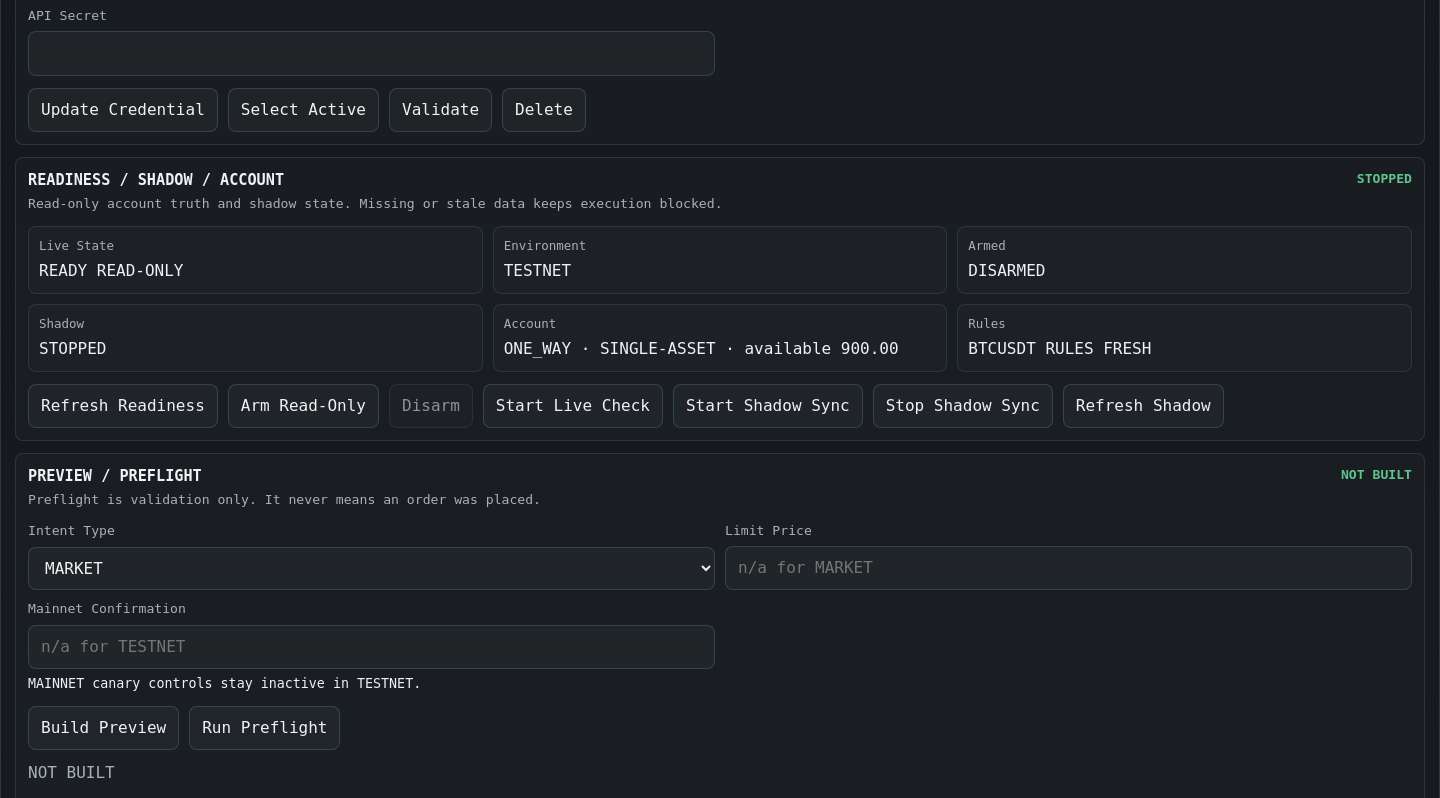
Test: live access panel › starts and stops live shadow sync with explicit stream state
The image size is (1440, 798).
(page scrolled)
Step 1. Click the button "Start Shadow Sync" → (768, 406), box [673,384,863,428]
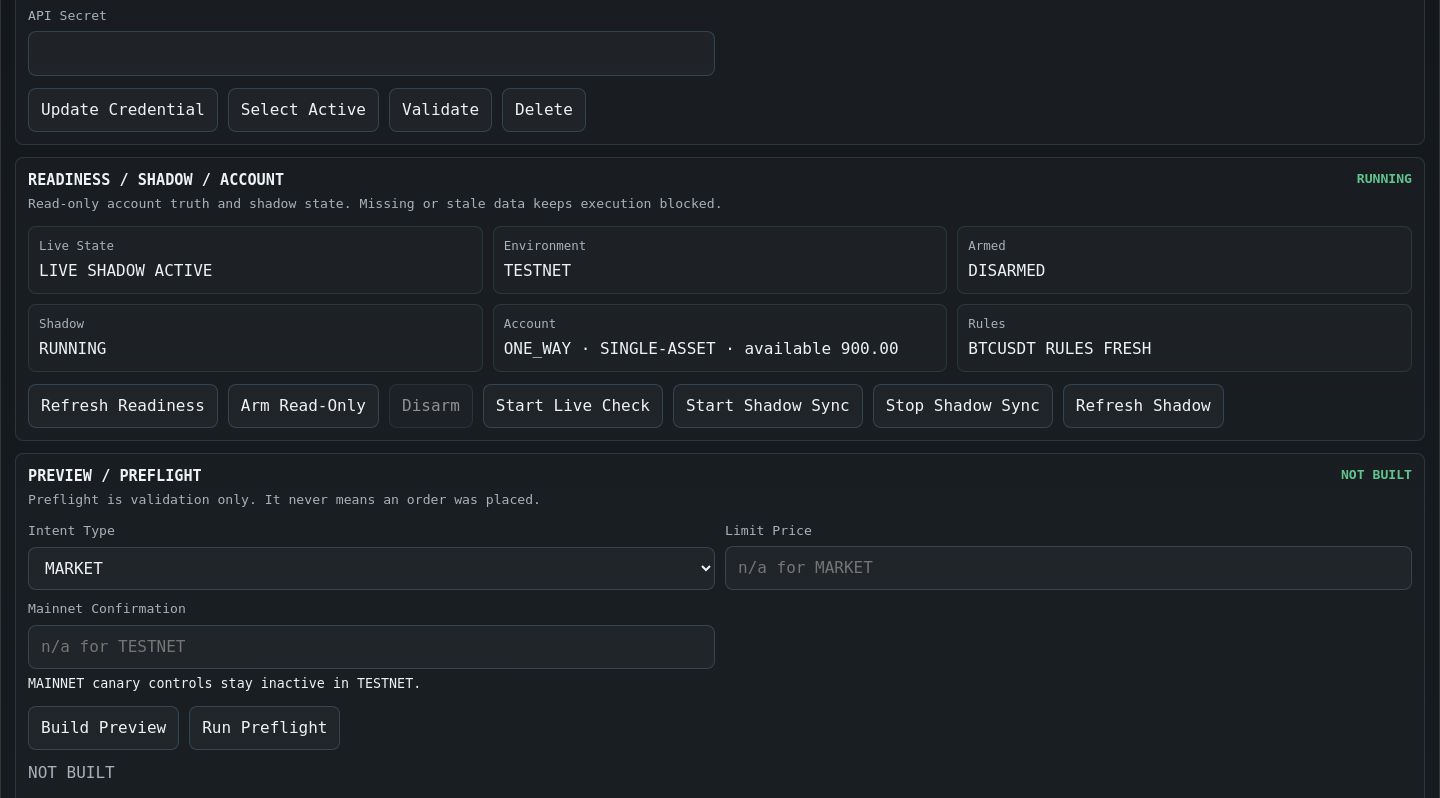
Now the text "LIVE SHADOW ACTIVE" is shown, box [39,261,212,280]
Step 2. Click the button "Refresh Shadow" → (1143, 406), box [1063,384,1224,428]
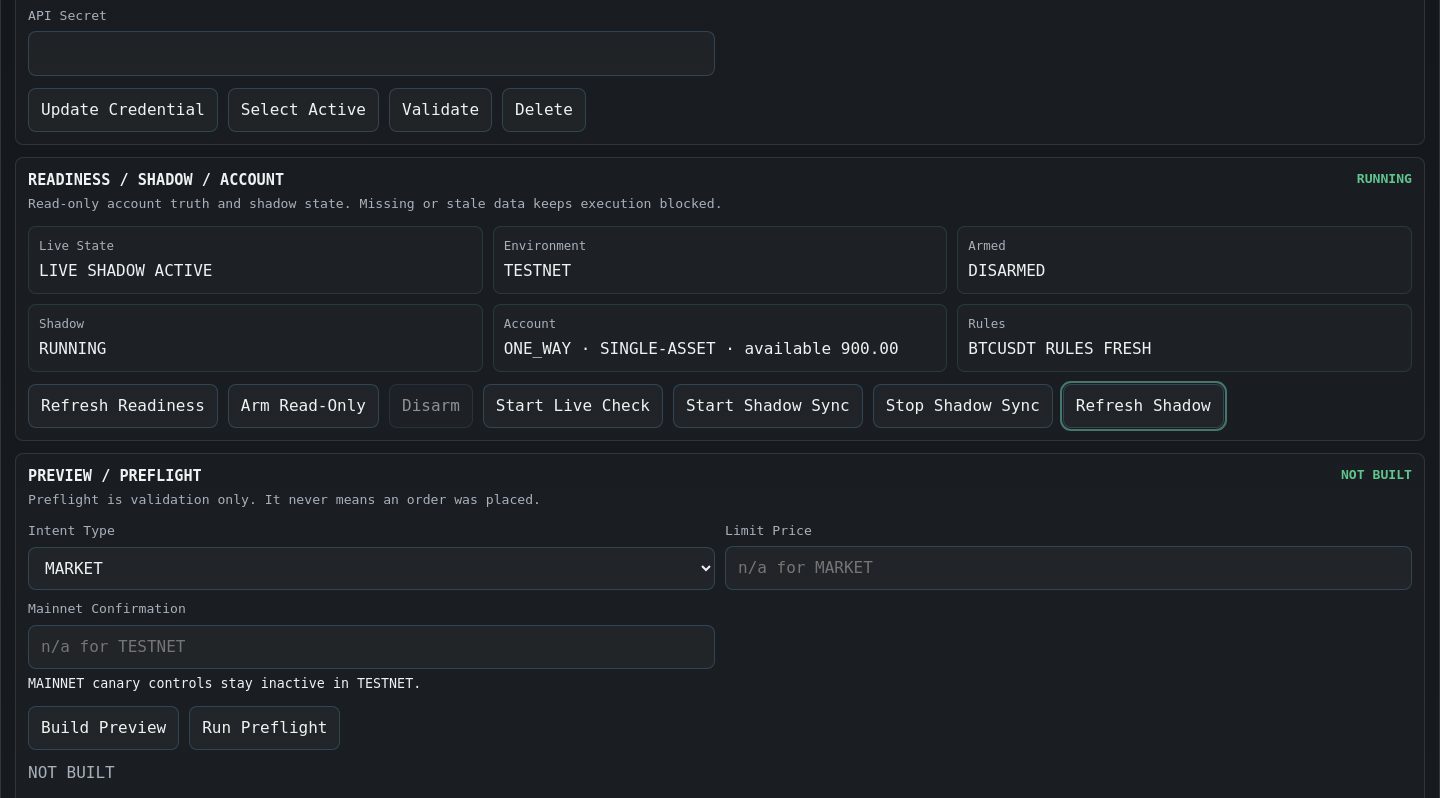
Step 3. Click the button "Stop Shadow Sync" → (963, 406), box [873,384,1053,428]
(page scrolled)
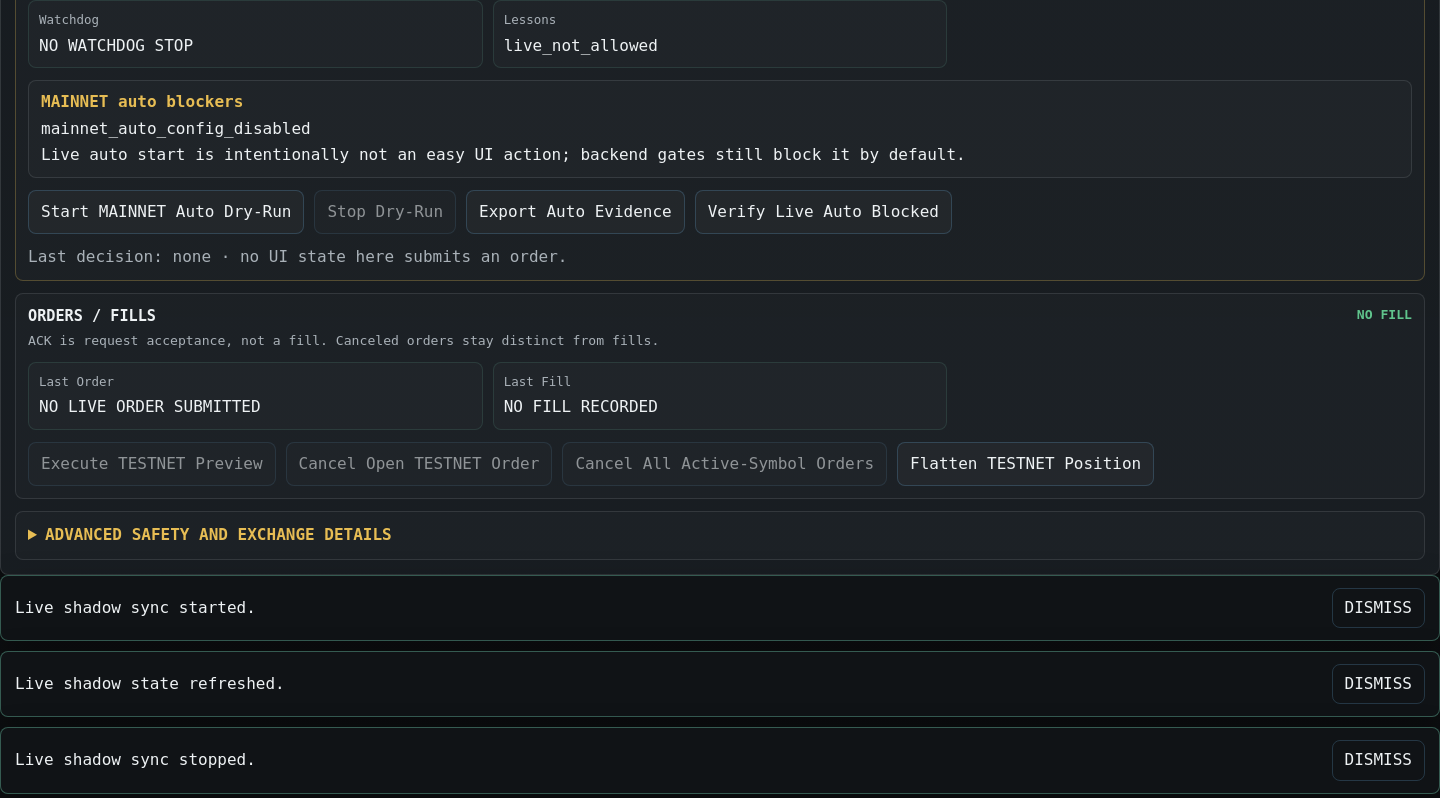
Now the text "Live shadow sync stopped." is shown, box [15,750,256,769]
